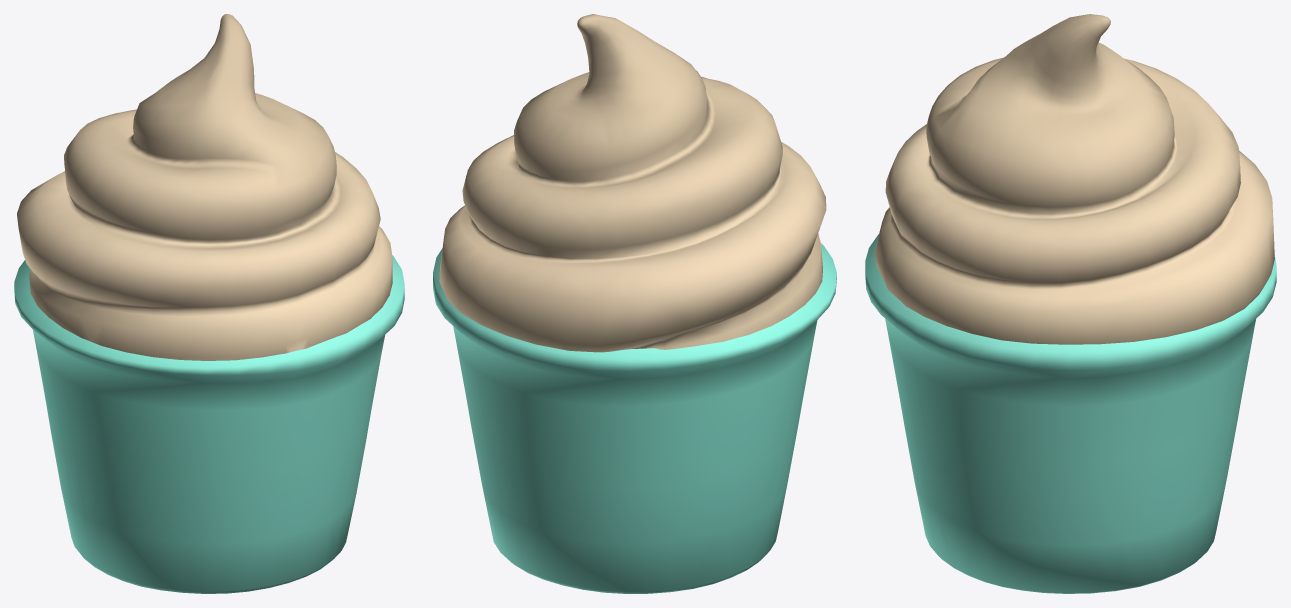
The model's file is IceCream_0001_0011.fbx.
3 renders of one model, left to right at view 1: azimuth 30°, elevation 25°; view 2: azimuth 150°, elevation 25°; view 3: azimuth 270°, elevation 25°, orthographic. The views are drawn at different scales.
Parts seen in each view (by area): view 1: Ice_0001_0011; view 2: Ice_0001_0011; view 3: Ice_0001_0011.
Boxes of the visible parts, box(x1,y1,x2,y2) form: Ice_0001_0011: box(14, 14, 404, 593); Ice_0001_0011: box(433, 14, 836, 593); Ice_0001_0011: box(865, 14, 1276, 593).
Bounding box in the file's own units: 0.0832 × 0.1198 × 0.0826.
1 material, 1 textured.
